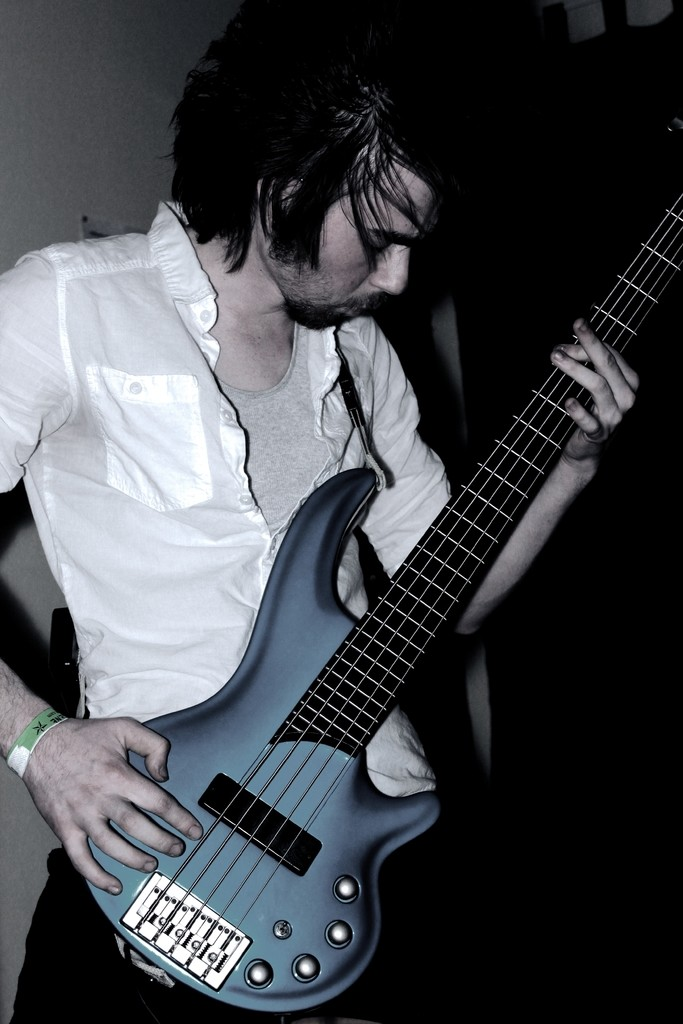guitar: (83, 115, 682, 1024)
